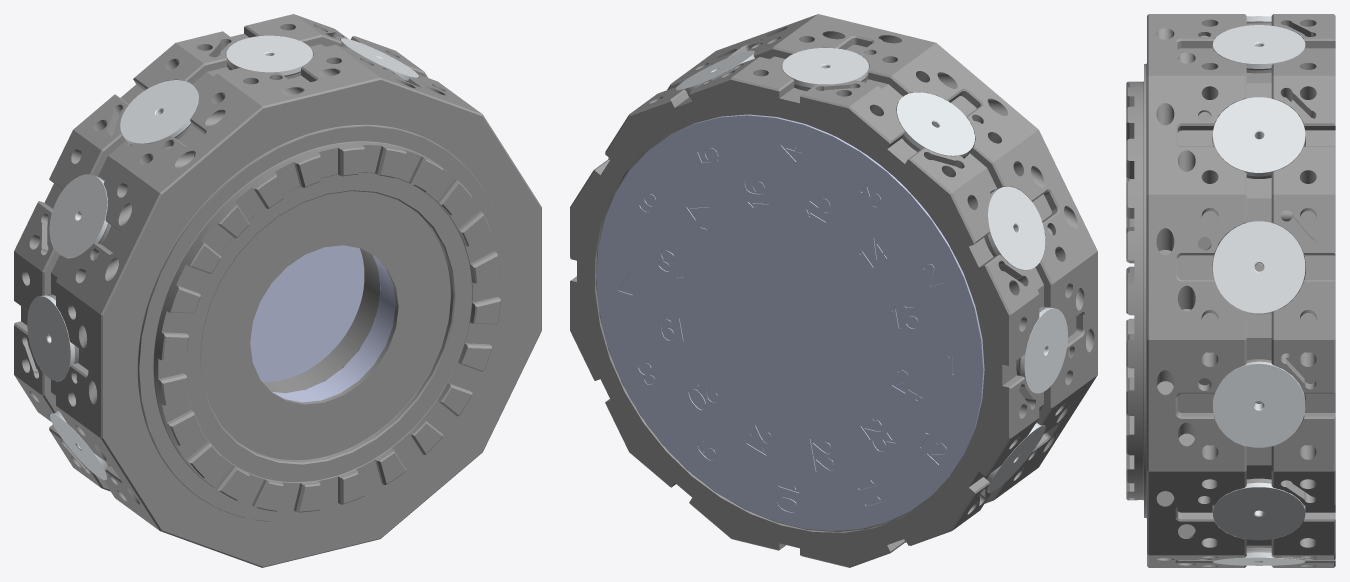
Rendered from Haas ST-20Y-25 (Just Turret1).obj.
The picture shows the model from 3 angles, left to right: view 1: azimuth 30°, elevation 25°; view 2: azimuth 150°, elevation 25°; view 3: azimuth 270°, elevation 25°; orthographic projection. The views are drawn at different scales.
Visible parts, largest first — view 1: Body219, Body309, Body6:1, Body6, Body6:2, Body6:11, Body6:3, Body6:10; view 2: Body309, Body219, Body6:1, Body6, Body6:2, Body6:11, Body6:3, Body6:10; view 3: Body219, Body6:9, Body6:8, Body6:10, Body6:7, Body6:11, Body6:6.
Boxes of the visible parts, x1=… form: Body219: x1=14, y1=14, x2=541, y2=567; Body309: x1=250, y1=245, x2=364, y2=381; Body6:1: x1=50, y1=174, x2=111, y2=258; Body6: x1=120, y1=80, x2=198, y2=146; Body6:2: x1=27, y1=294, x2=78, y2=380; Body6:11: x1=226, y1=35, x2=312, y2=78; Body6:3: x1=50, y1=410, x2=110, y2=480; Body6:10: x1=340, y1=38, x2=418, y2=81; Body309: x1=596, y1=114, x2=984, y2=531; Body219: x1=570, y1=14, x2=1097, y2=567; Body6:1: x1=984, y1=186, x2=1045, y2=270; Body6: x1=896, y1=92, x2=974, y2=158; Body6:2: x1=1016, y1=306, x2=1067, y2=393; Body6:11: x1=782, y1=48, x2=868, y2=91; Body6:3: x1=983, y1=422, x2=1045, y2=492; Body6:10: x1=676, y1=50, x2=754, y2=96; Body219: x1=1126, y1=14, x2=1335, y2=567; Body6:9: x1=1212, y1=221, x2=1305, y2=314; Body6:8: x1=1213, y1=359, x2=1305, y2=447; Body6:10: x1=1212, y1=97, x2=1305, y2=178; Body6:7: x1=1212, y1=478, x2=1305, y2=540; Body6:11: x1=1212, y1=25, x2=1305, y2=73; Body6:6: x1=1212, y1=547, x2=1305, y2=565.
Size of the model in its own units: 38.76 by 38.76 by 14.94.
